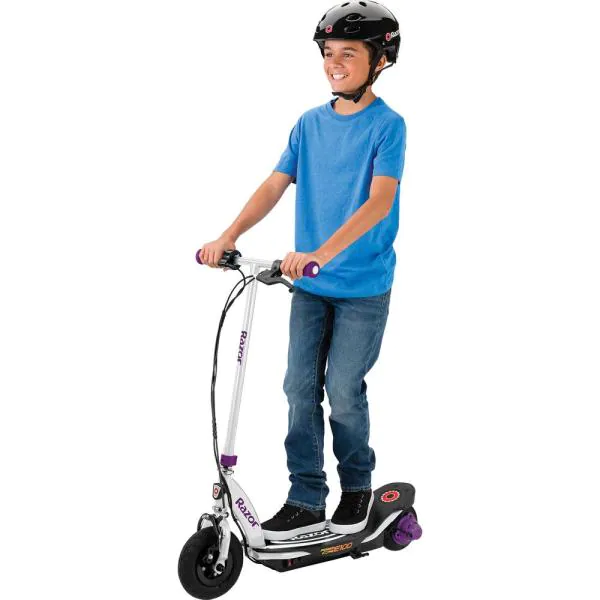scooter: (177, 244, 423, 600)
with helmet: (307, 1, 401, 103)
